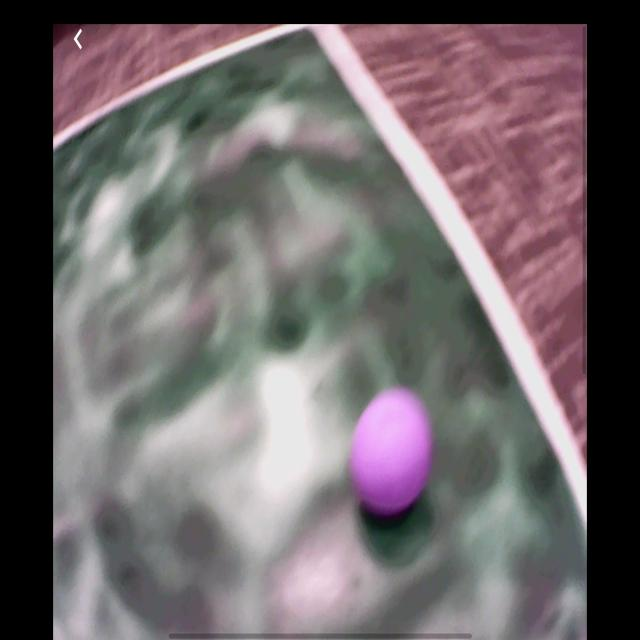ball: (355, 384, 431, 510)
